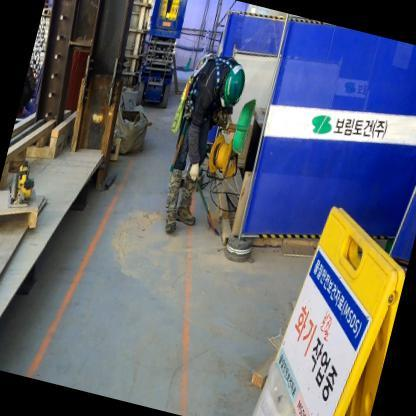Helmet: (218, 60, 251, 111)
safety-shoe: (170, 199, 204, 236)
